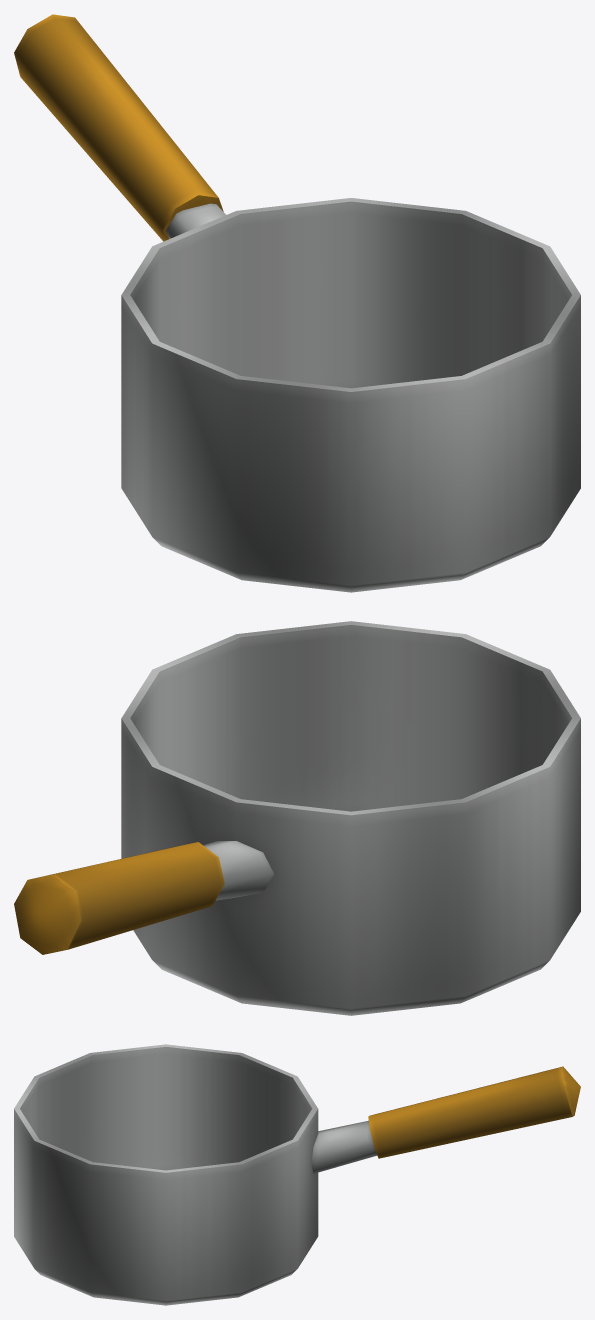
File: jsf_Pot_01a.fbx
3 views of the same model, one above another, from view 1: azimuth 30°, elevation 25°; view 2: azimuth 150°, elevation 25°; view 3: azimuth 270°, elevation 25° (orthographic). The views are drawn at different scales.
Parts seen in each view (by area): view 1: jsf_Pot_01a; view 2: jsf_Pot_01a; view 3: jsf_Pot_01a.
Part boxes in pixels (box(x1,y1,x2,y2)): jsf_Pot_01a: box(14, 14, 580, 592); jsf_Pot_01a: box(14, 621, 580, 1015); jsf_Pot_01a: box(14, 1044, 580, 1305).
Size of the model in its own units: 18.61 by 11.94 by 34.69.
